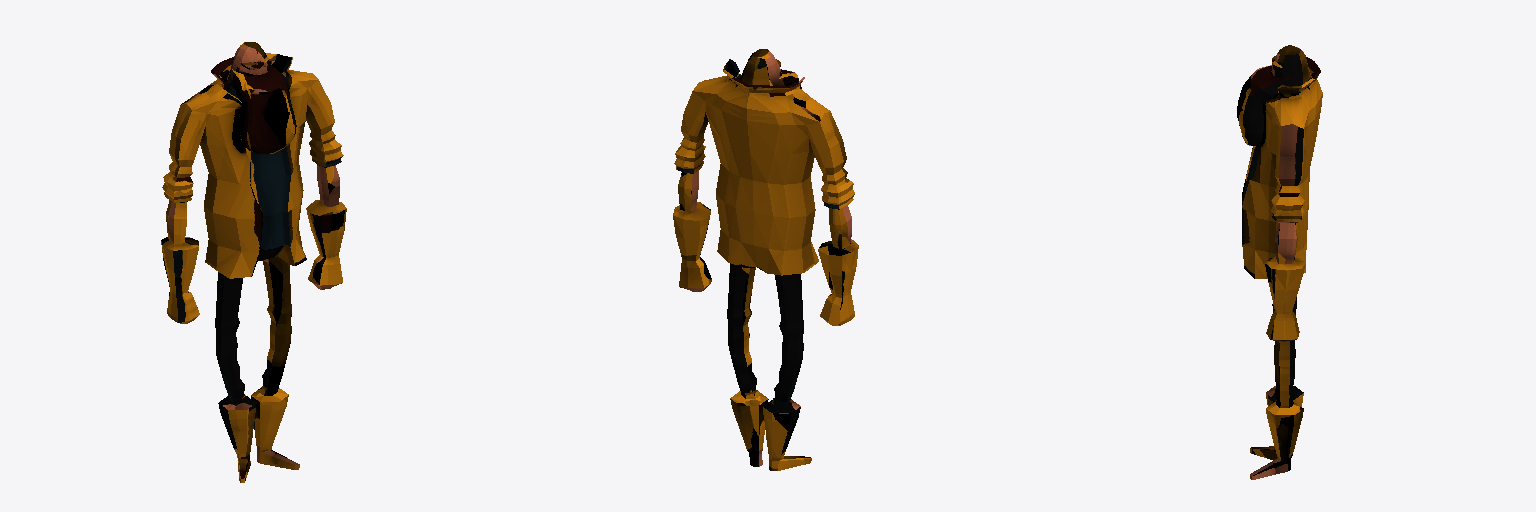
The picture shows the model from 3 angles: view 1: azimuth 30°, elevation 25°; view 2: azimuth 150°, elevation 25°; view 3: azimuth 270°, elevation 25°; orthographic projection.
Parts seen in each view (by area): view 1: Cylinder; view 2: Cylinder; view 3: Cylinder.
Part boxes in pixels (bbox=[...]): Cylinder: bbox=[161, 42, 346, 482]; Cylinder: bbox=[673, 49, 858, 470]; Cylinder: bbox=[1237, 45, 1322, 479].
Bounding box in the file's own units: 2.07 × 4.64 × 0.8599.
Materials: 6 (1 with a texture image).